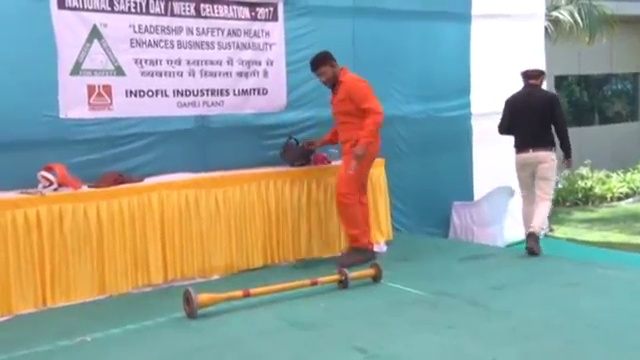helmet: (518, 59, 548, 81)
helmet_off: (308, 50, 342, 91)
helmet_on: (518, 60, 548, 91)
person: (309, 49, 384, 265), (498, 59, 572, 256)
